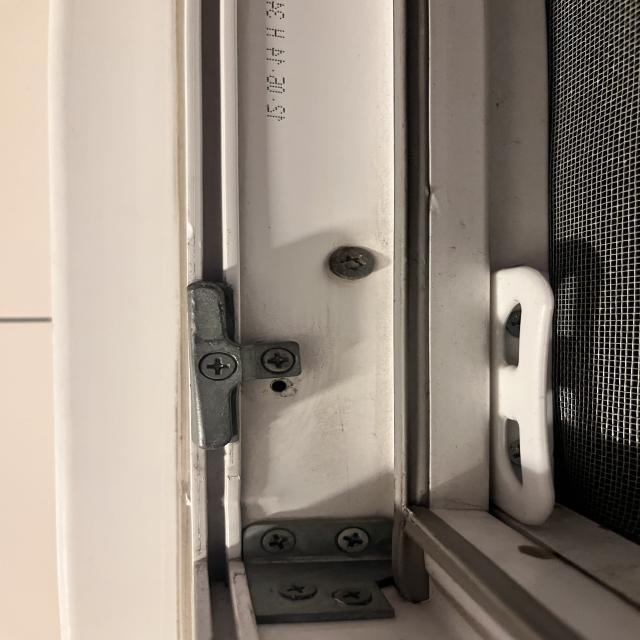phillips: (198, 351, 238, 381), (260, 348, 296, 373), (336, 527, 369, 554), (262, 529, 296, 555), (278, 580, 318, 601), (333, 587, 372, 605)
torx: (329, 246, 375, 279)
